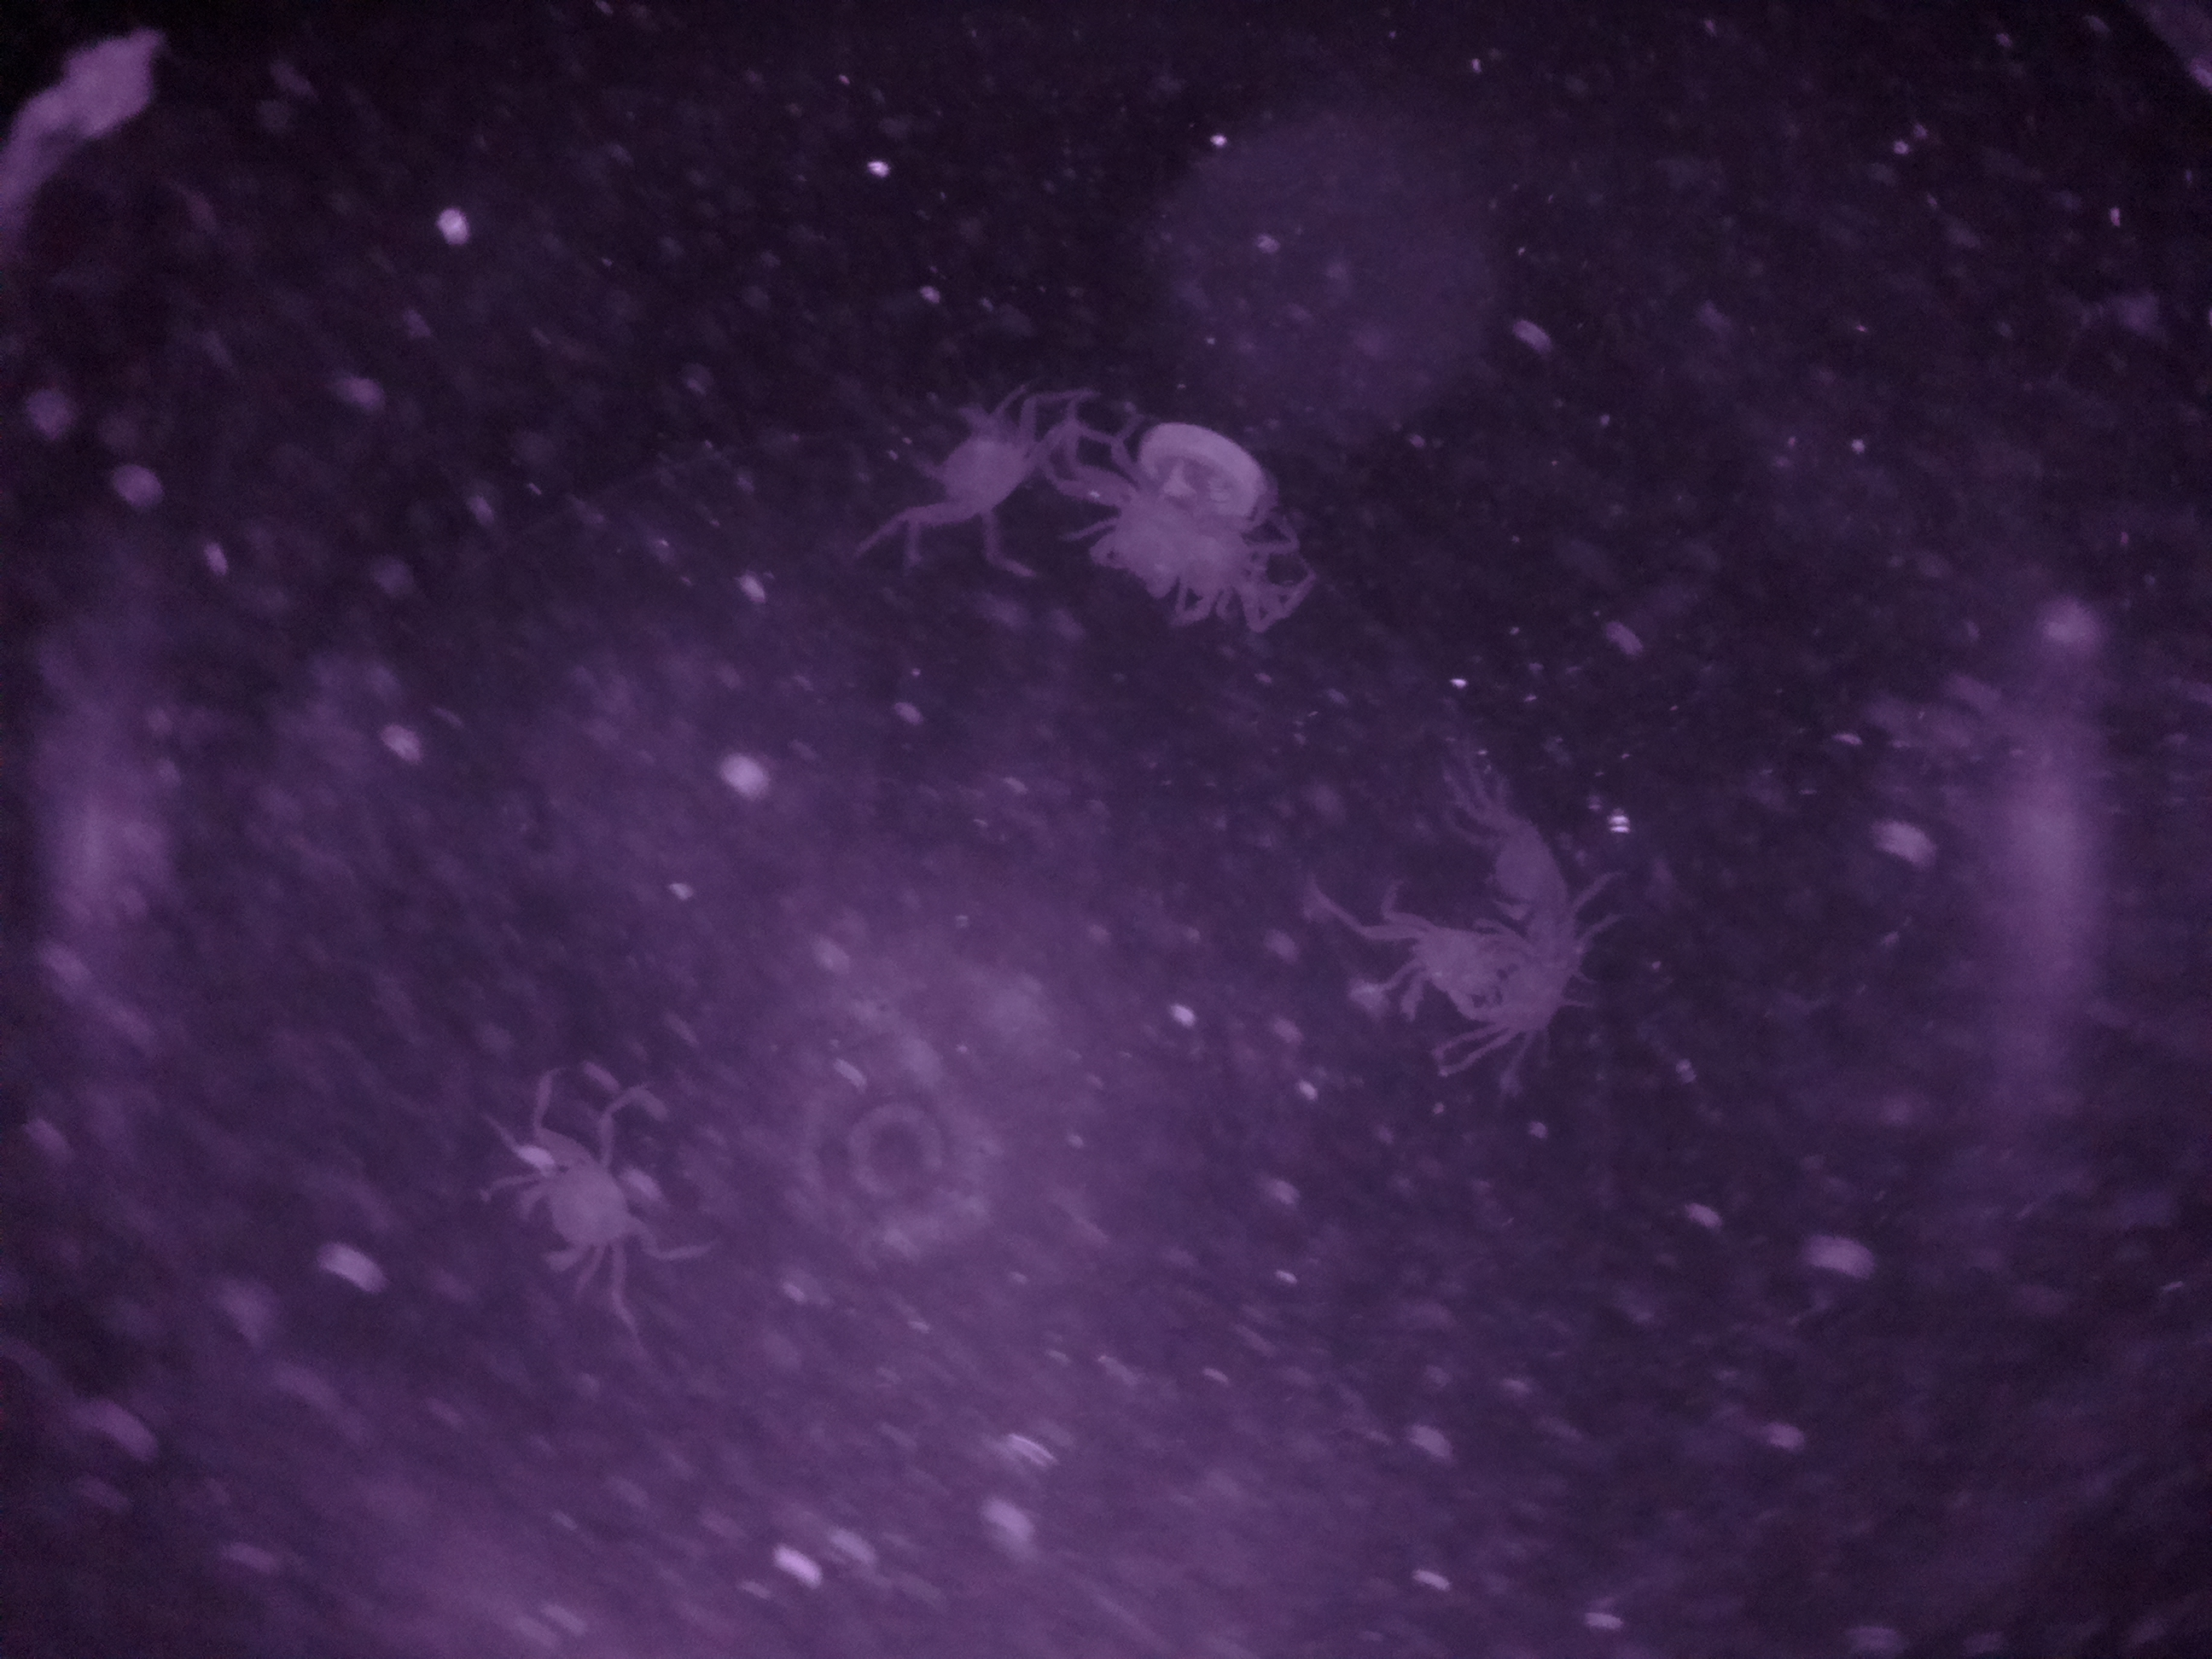Crab: (495, 1100, 686, 1307)
